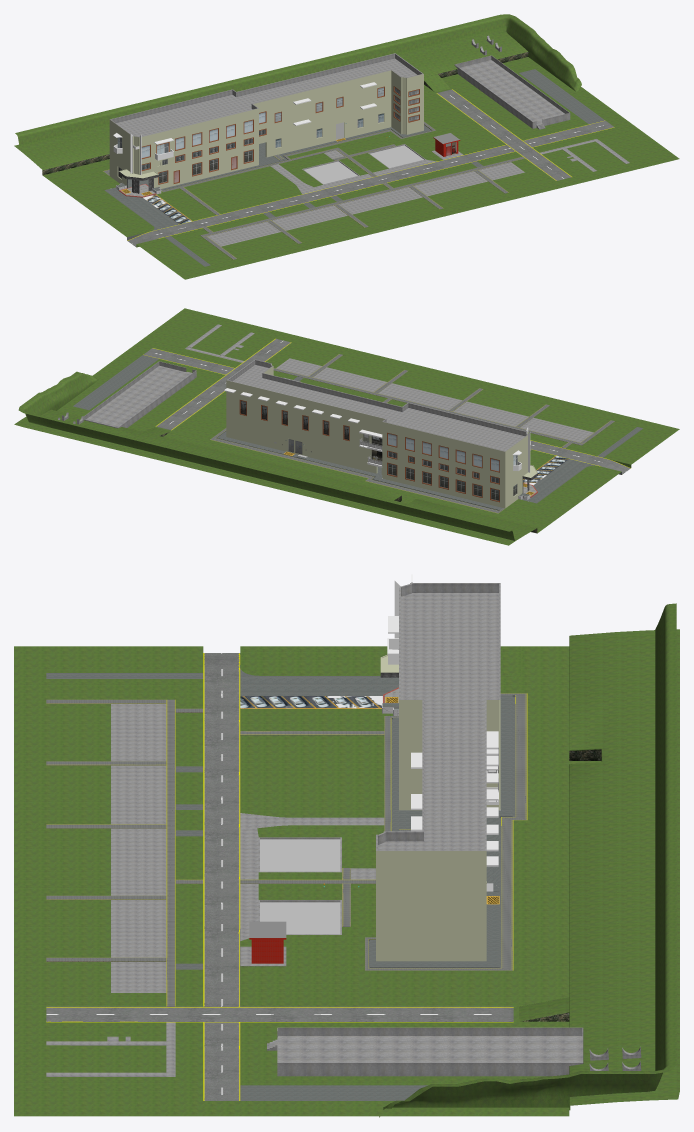
The model's file is SM_XD_dixing.FBX.
The picture shows the model from 3 angles, top to bottom: view 1: azimuth 30°, elevation 25°; view 2: azimuth 150°, elevation 25°; view 3: azimuth 270°, elevation 25°; orthographic projection. The views are drawn at different scales.
Parts seen in each view (by area): view 1: SM_XD_caodi, SM_XD_Zhulou, SM_XD_caoqiang, SM_XD_daolu_02 (×2), SM_XD_dikuai_03, SM_XD_caidi_01, SM_XD_dimian_01, SM_XD_dikuai_01, SM_XD_daolu_01, SM_XD_caodi_02, SM_XD_dikuai_02, SM_XD_dikuai_06 (+3 smaller); view 2: SM_XD_caodi, SM_XD_Zhulou, SM_XD_caidi_01, SM_XD_caoqiang, SM_XD_daolu_02 (×2), SM_XD_dikuai_01, SM_XD_dikuai_03, SM_XD_caodi_02, SM_XD_weishuiquan, SM_XD_daolu_01, SM_XD_dikuai_06, SM_XD_peijian_01; view 3: SM_XD_caodi, SM_XD_caidi_01, SM_XD_Zhulou, SM_XD_dikuai_03, SM_XD_daolu_02 (×2), SM_XD_caoqiang, SM_XD_dimian_01, SM_XD_dikuai_01, SM_XD_weishuiquan, SM_XD_daolu_01, SM_XD_dikuai_02, SM_XD_dikuai_06 (+3 smaller).
Part boxes in pixels (<box>): SM_XD_caodi: <box>43,57,679,279</box>; SM_XD_Zhulou: <box>109,53,423,193</box>; SM_XD_caoqiang: <box>15,14,581,150</box>; SM_XD_daolu_02 (×2): <box>165,69,629,266</box>; SM_XD_dikuai_03: <box>127,89,614,246</box>; SM_XD_caidi_01: <box>14,32,528,175</box>; SM_XD_dimian_01: <box>279,121,505,189</box>; SM_XD_dikuai_01: <box>454,55,570,129</box>; SM_XD_daolu_01: <box>179,144,524,259</box>; SM_XD_caodi_02: <box>55,177,154,240</box>; SM_XD_dikuai_02: <box>302,144,425,184</box>; SM_XD_dikuai_06: <box>104,187,192,231</box>; SM_XD_caodi: <box>57,308,679,533</box>; SM_XD_Zhulou: <box>226,359,529,508</box>; SM_XD_caidi_01: <box>14,409,537,545</box>; SM_XD_caoqiang: <box>18,371,514,540</box>; SM_XD_daolu_02 (×2): <box>73,324,642,457</box>; SM_XD_dikuai_01: <box>84,361,196,428</box>; SM_XD_dikuai_03: <box>143,338,630,474</box>; SM_XD_caodi_02: <box>519,465,621,524</box>; SM_XD_weishuiquan: <box>210,428,504,513</box>; SM_XD_daolu_01: <box>273,354,614,450</box>; SM_XD_dikuai_06: <box>521,455,597,503</box>; SM_XD_peijian_01: <box>224,388,530,472</box>; SM_XD_caodi: <box>14,646,569,1116</box>; SM_XD_caidi_01: <box>519,629,679,1105</box>; SM_XD_Zhulou: <box>376,583,500,961</box>; SM_XD_dikuai_03: <box>46,653,513,1100</box>; SM_XD_daolu_02 (×2): <box>46,673,427,1100</box>; SM_XD_caoqiang: <box>379,603,676,1117</box>; SM_XD_dimian_01: <box>240,825,384,1006</box>; SM_XD_dikuai_01: <box>267,1027,583,1076</box>; SM_XD_weishuiquan: <box>365,693,527,970</box>; SM_XD_daolu_01: <box>46,699,384,1006</box>; SM_XD_dikuai_02: <box>258,837,341,934</box>; SM_XD_dikuai_06: <box>240,669,398,708</box>.
Bounding box in the file's own units: 120551 × 15219 × 72117.
